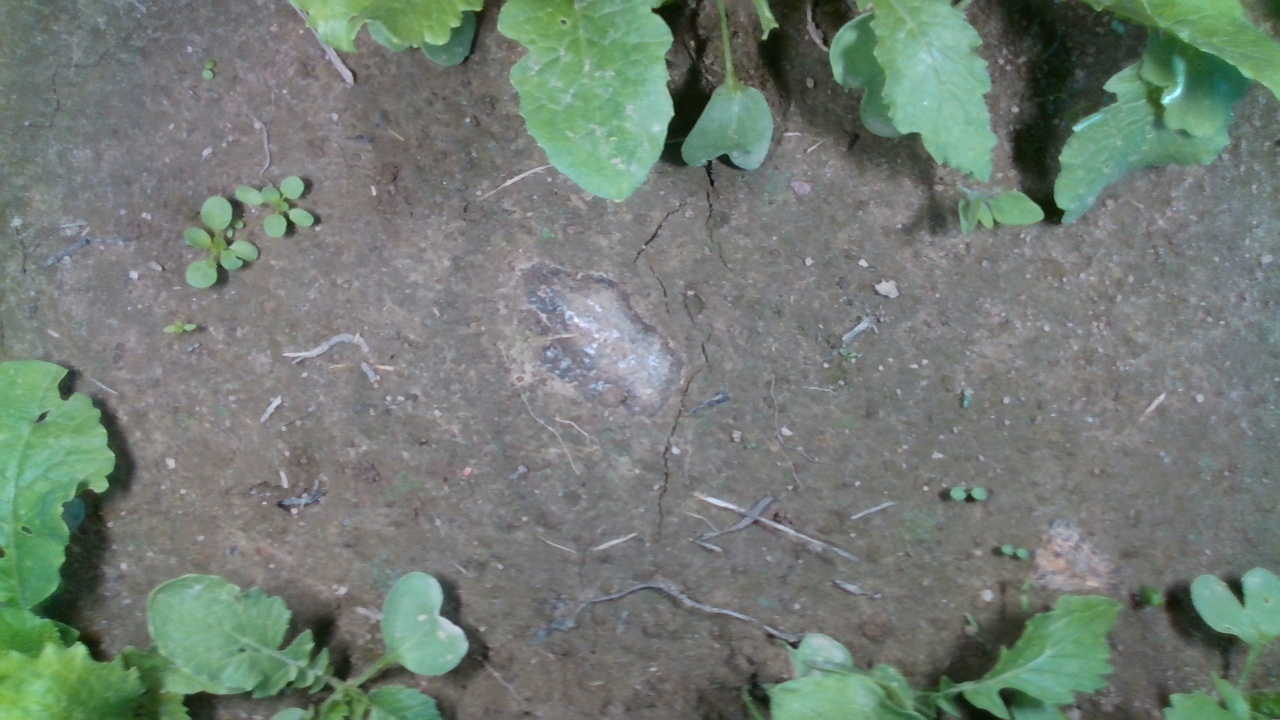weed: (947, 483, 991, 502), (158, 317, 199, 337), (999, 542, 1031, 559), (201, 55, 217, 82), (181, 340, 201, 355)
